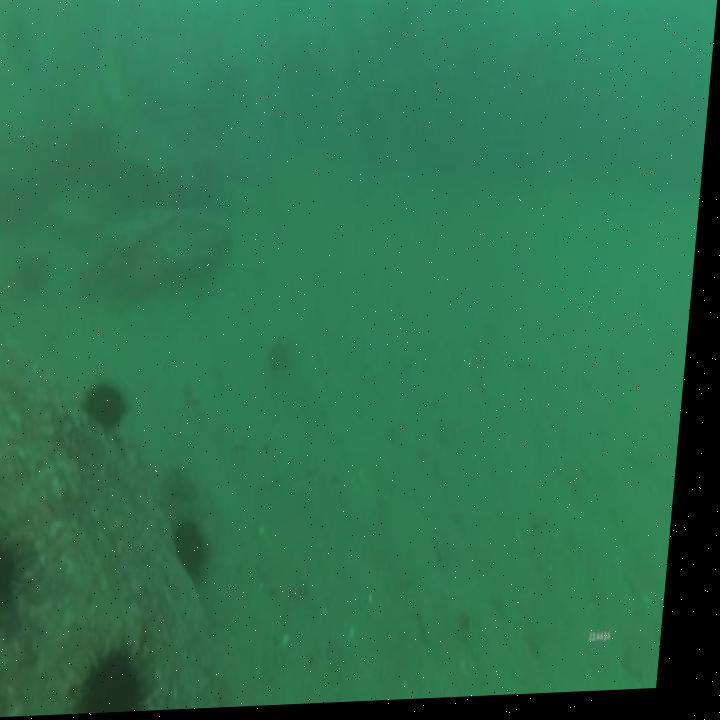echinus: (85, 635, 171, 715), (86, 373, 139, 444), (0, 528, 34, 633), (176, 510, 223, 584)
